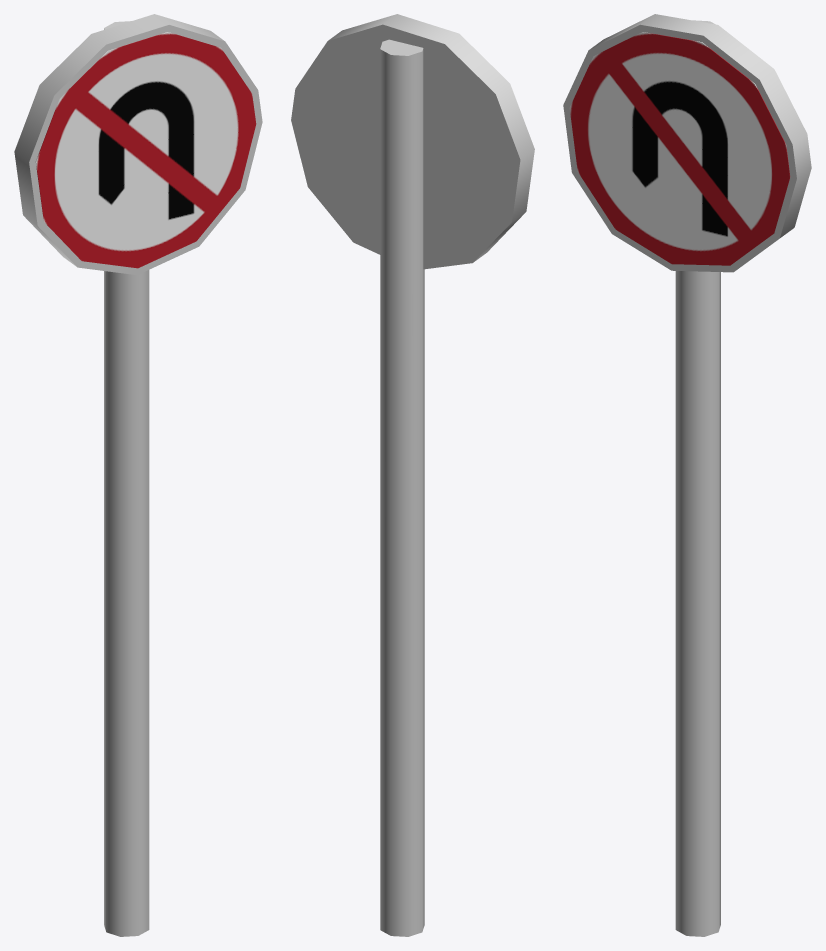
File: NOUTURN.fbx
3 views of the same model, side by side, from view 1: azimuth 30°, elevation 25°; view 2: azimuth 150°, elevation 25°; view 3: azimuth 330°, elevation 25° (orthographic).
Visible parts, largest first — view 1: pasted__pasted__pasted__pasted__pasted__pasted__layer 8; view 2: pasted__pasted__pasted__pasted__pasted__pasted__layer 8; view 3: pasted__pasted__pasted__pasted__pasted__pasted__layer 8.
Part boxes in pixels (bbox=[...]): pasted__pasted__pasted__pasted__pasted__pasted__layer 8: bbox=[14, 14, 262, 936]; pasted__pasted__pasted__pasted__pasted__pasted__layer 8: bbox=[291, 14, 534, 936]; pasted__pasted__pasted__pasted__pasted__pasted__layer 8: bbox=[563, 14, 811, 936].
Bounding box in the file's own units: 1.02 × 3.81 × 0.2327.
Materials: 2 (1 with a texture image).
